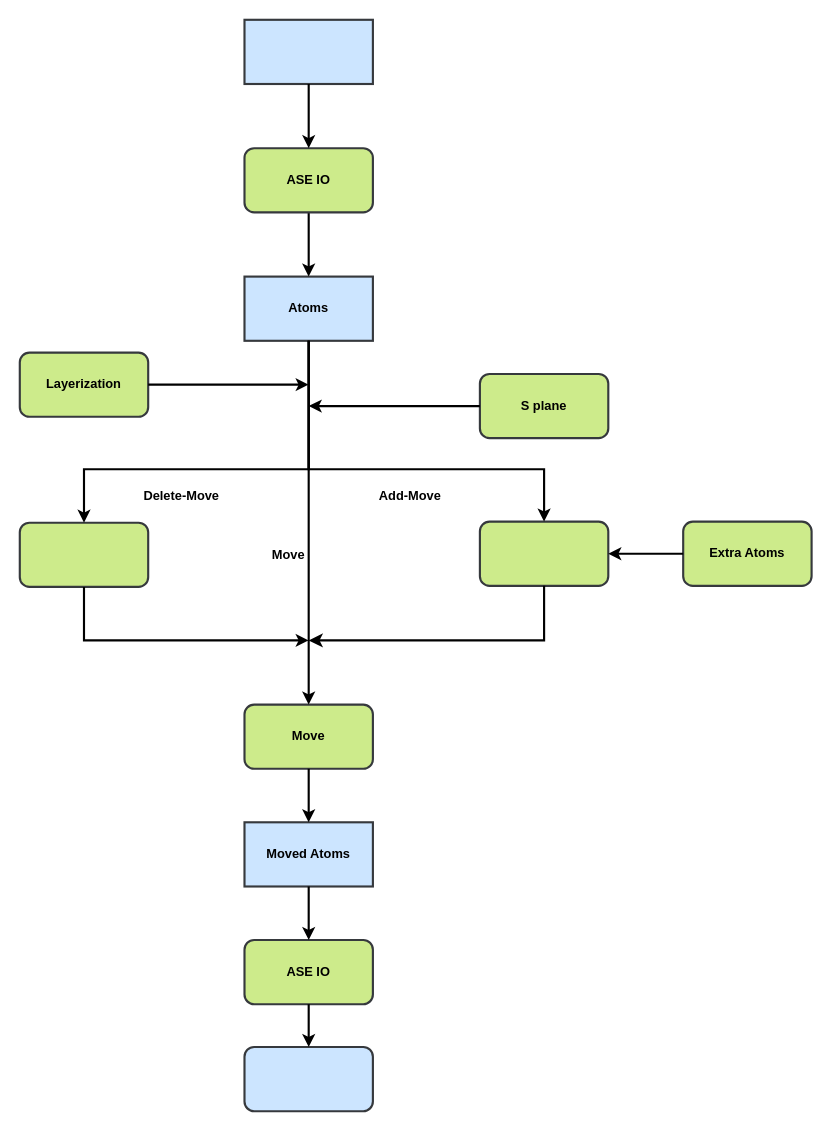
The diagram is 830 pixels wide and 1130 high, and some of its shapes have lost their labels. Each missing label, with the centre of its shape:
Add: point 543,553
Data: point 308,51
Delete: point 83,554
New Data: point 308,1078
